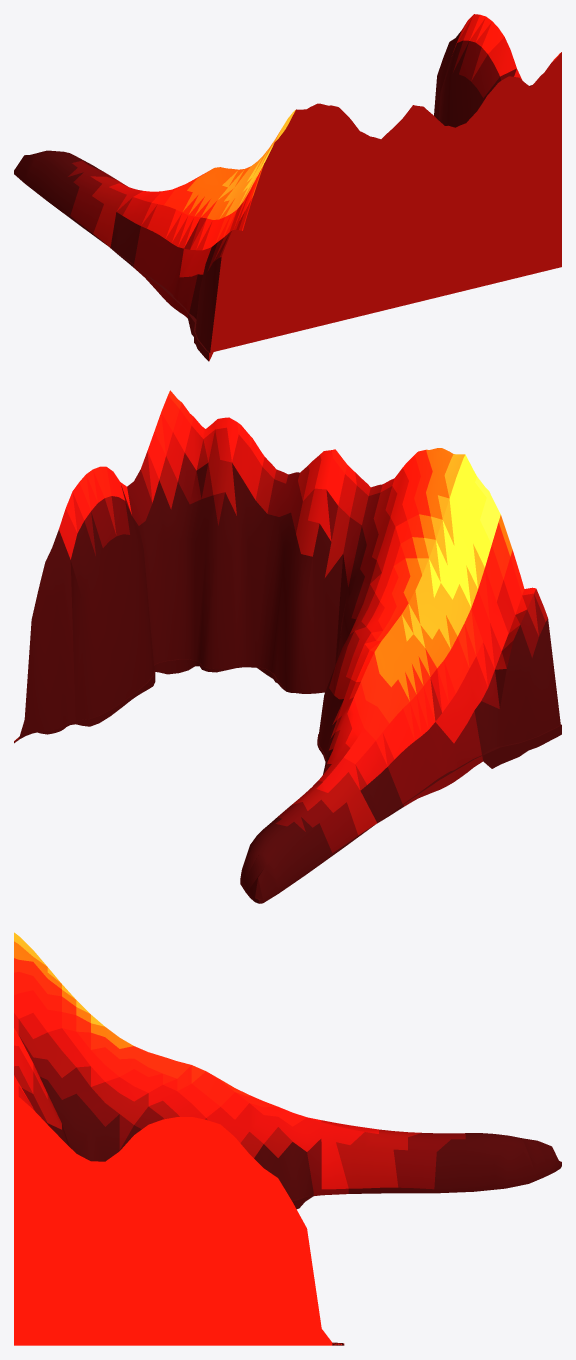
Rendered from core_fire_39.glb.
3 views of the same model, one above another, from view 1: azimuth 30°, elevation 25°; view 2: azimuth 150°, elevation 25°; view 3: azimuth 270°, elevation 25° (orthographic). The views are drawn at different scales.
Parts seen in each view (by area): view 1: core_fire_39_fire; view 2: core_fire_39_fire; view 3: core_fire_39_fire.
Part boxes in pixels (<box>): core_fire_39_fire: <box>14,14,561,361</box>; core_fire_39_fire: <box>14,390,561,903</box>; core_fire_39_fire: <box>14,932,561,1345</box>.
Bounding box in the file's own units: 19.91 × 12.88 × 22.81.
